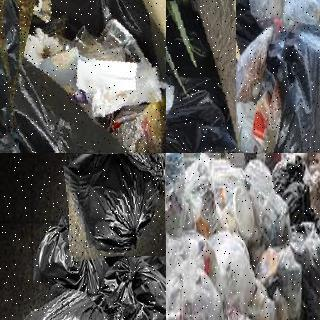Garbage: (0, 0, 166, 153), (166, 0, 242, 153), (66, 153, 166, 258), (257, 26, 320, 153), (31, 216, 112, 309), (0, 282, 134, 320), (242, 156, 294, 249), (99, 254, 166, 320), (208, 229, 260, 310), (166, 259, 225, 320), (166, 153, 198, 237)
